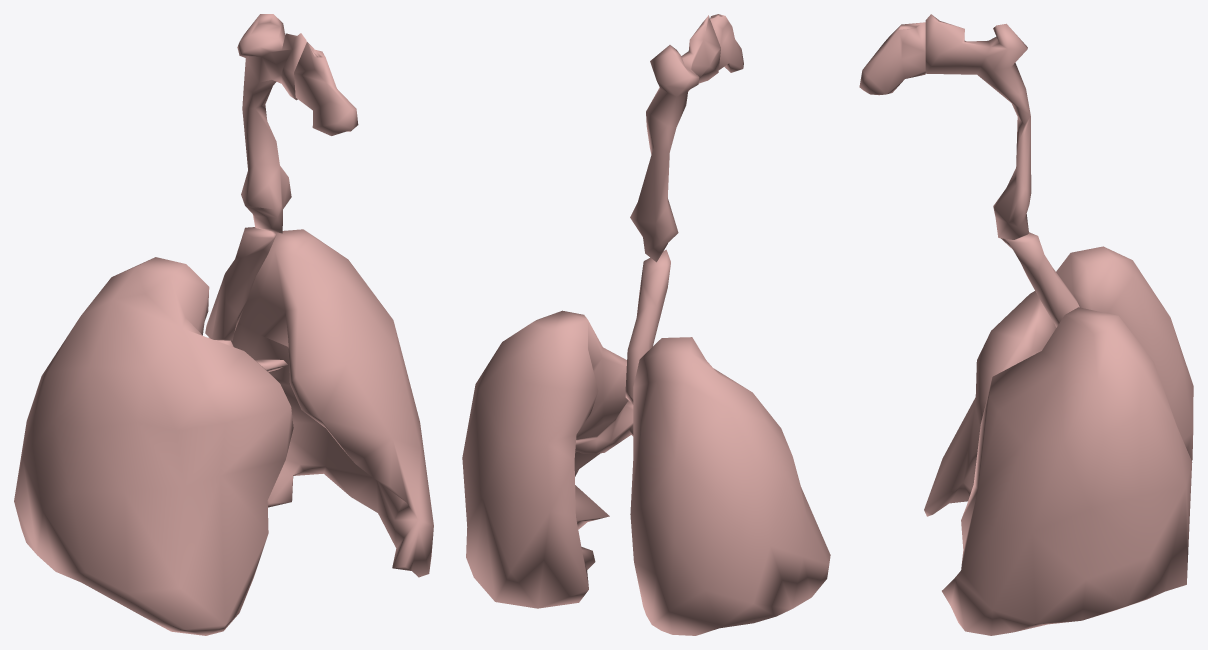
The model's file is icrp_adult_male.respiratory.LOD3.glb.
The picture shows the model from 3 angles, left to right: view 1: azimuth 30°, elevation 25°; view 2: azimuth 150°, elevation 25°; view 3: azimuth 270°, elevation 25°; orthographic projection. The views are drawn at different scales.
Visible parts, largest first — view 1: ICRP.ADULT.MALE.RESPIRATORY.LUNG.R, ICRP.ADULT.MALE.RESPIRATORY.LUNG.L, ICRP.ADULT.MALE.RESPIRATORY.EXTRATHORACIC_AIRWAY_ET2_POSTERI, ICRP.ADULT.MALE.RESPIRATORY.TRACHEA, ICRP.ADULT.MALE.RESPIRATORY.EXTRATHORACIC_AIRWAY_ET1_ANTERIO; view 2: ICRP.ADULT.MALE.RESPIRATORY.LUNG.R, ICRP.ADULT.MALE.RESPIRATORY.LUNG.L, ICRP.ADULT.MALE.RESPIRATORY.EXTRATHORACIC_AIRWAY_ET2_POSTERI, ICRP.ADULT.MALE.RESPIRATORY.TRACHEA, ICRP.ADULT.MALE.RESPIRATORY.BRONCHI_BB_REGION, ICRP.ADULT.MALE.RESPIRATORY.EXTRATHORACIC_AIRWAY_ET1_ANTERIO; view 3: ICRP.ADULT.MALE.RESPIRATORY.LUNG.L, ICRP.ADULT.MALE.RESPIRATORY.LUNG.R, ICRP.ADULT.MALE.RESPIRATORY.EXTRATHORACIC_AIRWAY_ET2_POSTERI, ICRP.ADULT.MALE.RESPIRATORY.EXTRATHORACIC_AIRWAY_ET1_ANTERIO, ICRP.ADULT.MALE.RESPIRATORY.TRACHEA.
Part boxes in pixels (box(x1,y1,x2,y2)): ICRP.ADULT.MALE.RESPIRATORY.LUNG.R: box(14, 257, 293, 635); ICRP.ADULT.MALE.RESPIRATORY.LUNG.L: box(231, 229, 433, 577); ICRP.ADULT.MALE.RESPIRATORY.EXTRATHORACIC_AIRWAY_ET2_POSTERI: box(237, 14, 306, 233); ICRP.ADULT.MALE.RESPIRATORY.TRACHEA: box(205, 227, 276, 340); ICRP.ADULT.MALE.RESPIRATORY.EXTRATHORACIC_AIRWAY_ET1_ANTERIO: box(294, 42, 358, 135); ICRP.ADULT.MALE.RESPIRATORY.LUNG.R: box(630, 337, 830, 635); ICRP.ADULT.MALE.RESPIRATORY.LUNG.L: box(462, 310, 628, 608); ICRP.ADULT.MALE.RESPIRATORY.EXTRATHORACIC_AIRWAY_ET2_POSTERI: box(630, 15, 720, 262); ICRP.ADULT.MALE.RESPIRATORY.TRACHEA: box(625, 249, 670, 404); ICRP.ADULT.MALE.RESPIRATORY.BRONCHI_BB_REGION: box(575, 400, 633, 453); ICRP.ADULT.MALE.RESPIRATORY.EXTRATHORACIC_AIRWAY_ET1_ANTERIO: box(710, 14, 743, 72); ICRP.ADULT.MALE.RESPIRATORY.LUNG.L: box(942, 307, 1192, 635); ICRP.ADULT.MALE.RESPIRATORY.LUNG.R: box(924, 246, 1193, 516); ICRP.ADULT.MALE.RESPIRATORY.EXTRATHORACIC_AIRWAY_ET2_POSTERI: box(925, 14, 1031, 239); ICRP.ADULT.MALE.RESPIRATORY.EXTRATHORACIC_AIRWAY_ET1_ANTERIO: box(859, 22, 925, 95); ICRP.ADULT.MALE.RESPIRATORY.TRACHEA: box(1001, 232, 1079, 327).
Bounding box in the file's own units: 0.262 × 0.4127 × 0.2269.
